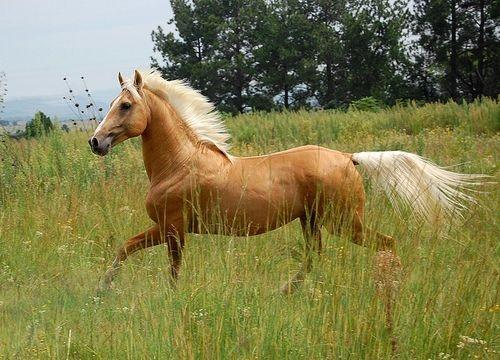horse: (87, 67, 497, 296)
